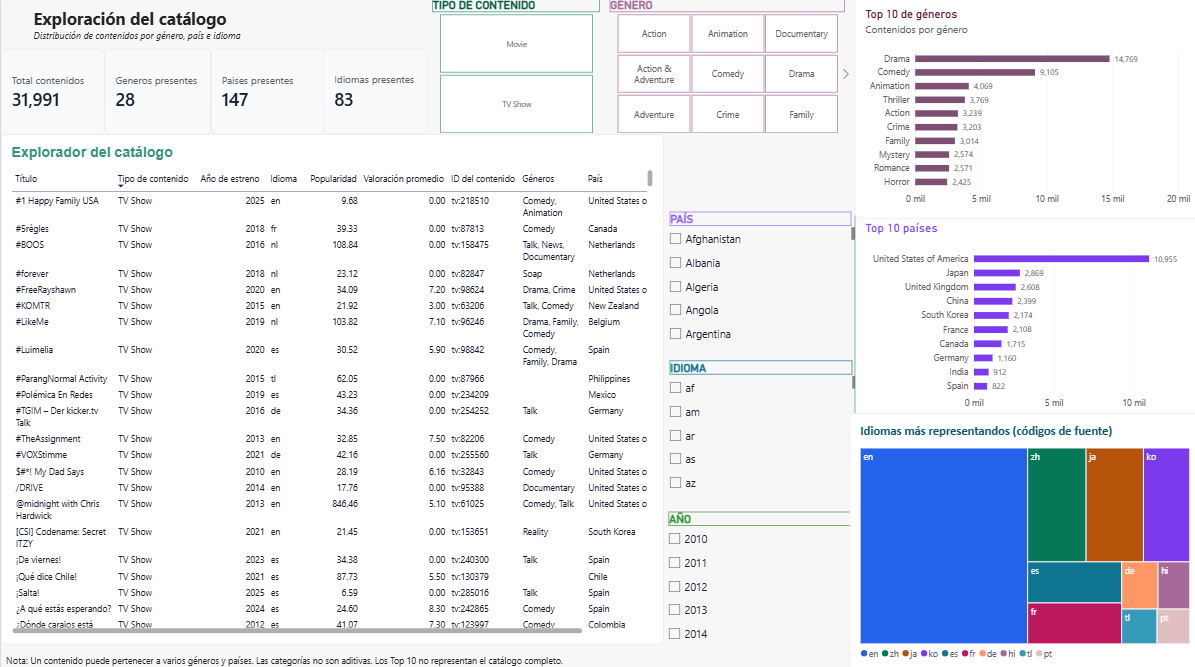

The dashboard page shown, as its layout file describes it:
{"tool":"powerbi","page":{"name":"Catálogo","canvas":[1920,1080],"ordinal":1},"visuals":[{"type":"tableEx","title":"Explorador del catálogo","fields":{"Values":["catalogo.title","catalogo.type","dim_anio_estreno.release_year","catalogo.language","catalogo.popularity","catalogo.vote_average","contenido_genero.content_id","catalogo.genres","catalogo.country"]},"box":[0,218,1060,816],"z":0},{"type":"slicer","fields":{"Values":["dim_generos.genre"]},"box":[966,0,392,218],"z":1000},{"type":"slicer","fields":{"Values":["catalogo.type"]},"box":[682,0,284,218],"z":2000},{"type":"slicer","fields":{"Values":["dim_paises.country"]},"box":[1062,342,306,212],"z":3000},{"type":"slicer","fields":{"Values":["dim_anio_estreno.release_year"]},"box":[1060,822,308,212],"z":4000},{"type":"slicer","fields":{"Values":["catalogo.language"]},"box":[1062,580,308,212],"z":5000},{"type":"clusteredBarChart","title":"Top 10 países","fields":{"Category":["dim_paises.country"],"Y":["catalogo.Total contenidos"]},"box":[1366,342,552,338],"z":6000},{"type":"treemap","title":"Idiomas más representandos (códigos de fuente)","fields":{"Group":["catalogo.language"],"Values":["catalogo.Total contenidos"]},"box":[1358,664,561,416.2],"z":7000},{"type":"textbox","box":[52.5,14.5,561,68.8],"z":8000},{"type":"cardVisual","fields":{"Data":["catalogo.Total contenidos"]},"box":[0,82,166,136],"z":9000},{"type":"cardVisual","fields":{"Data":["catalogo.Paises presentes"]},"box":[336,82,180,136],"z":10000},{"type":"cardVisual","fields":{"Data":["catalogo.Idiomas presentes"]},"box":[516.2,82.5,166.2,135],"z":11000},{"type":"cardVisual","fields":{"Data":["catalogo.Generos presentes"]},"box":[166,82,170,136],"z":12000},{"type":"barChart","title":"Top 10 de géneros","fields":{"Category":["dim_generos.genre"],"Y":["catalogo.Total contenidos"]},"box":[1366,0,554,353],"z":13000},{"type":"textbox","box":[8,1050,1350,30],"z":13001}]}

Visuals, with their boxes in screenshot pixels (x1, y1, x2, y2), scaled from the page's 1920x1080 canvas onto the 1195x667 screenshot:
"Explorador del catálogo" tableEx: detection(0, 135, 660, 639)
slicer - dim_generos.genre: detection(601, 0, 845, 135)
slicer - catalogo.type: detection(424, 0, 601, 135)
slicer - dim_paises.country: detection(661, 211, 851, 342)
slicer - dim_anio_estreno.release_year: detection(660, 508, 851, 639)
slicer - catalogo.language: detection(661, 358, 853, 489)
"Top 10 países" clusteredBarChart: detection(850, 211, 1194, 420)
"Idiomas más representandos (códigos de fuente)" treemap: detection(845, 410, 1194, 666)
textbox: detection(33, 9, 382, 51)
cardVisual - catalogo.Total contenidos: detection(0, 51, 103, 135)
cardVisual - catalogo.Paises presentes: detection(209, 51, 321, 135)
cardVisual - catalogo.Idiomas presentes: detection(321, 51, 425, 134)
cardVisual - catalogo.Generos presentes: detection(103, 51, 209, 135)
"Top 10 de géneros" barChart: detection(850, 0, 1194, 218)
textbox: detection(5, 648, 845, 666)
